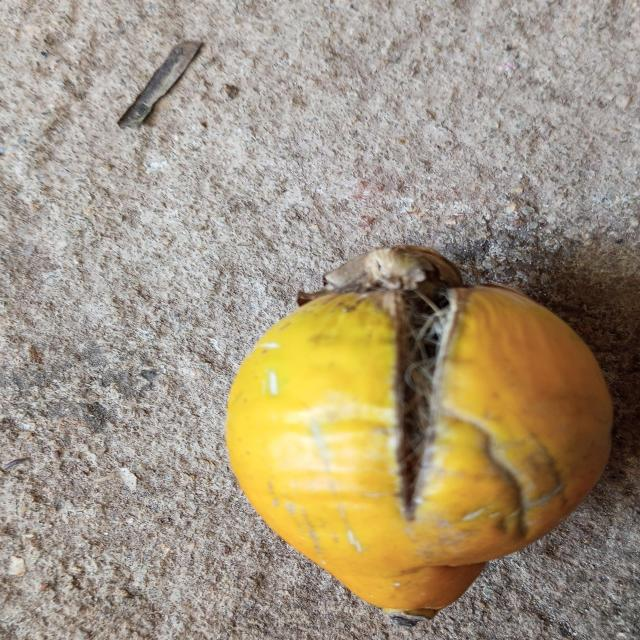damaged: (226, 245, 612, 623)
